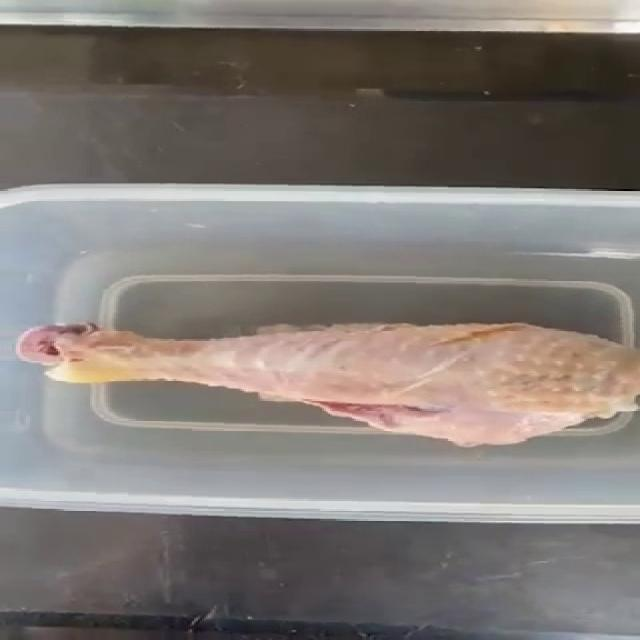chicken: (15, 318, 639, 448)
